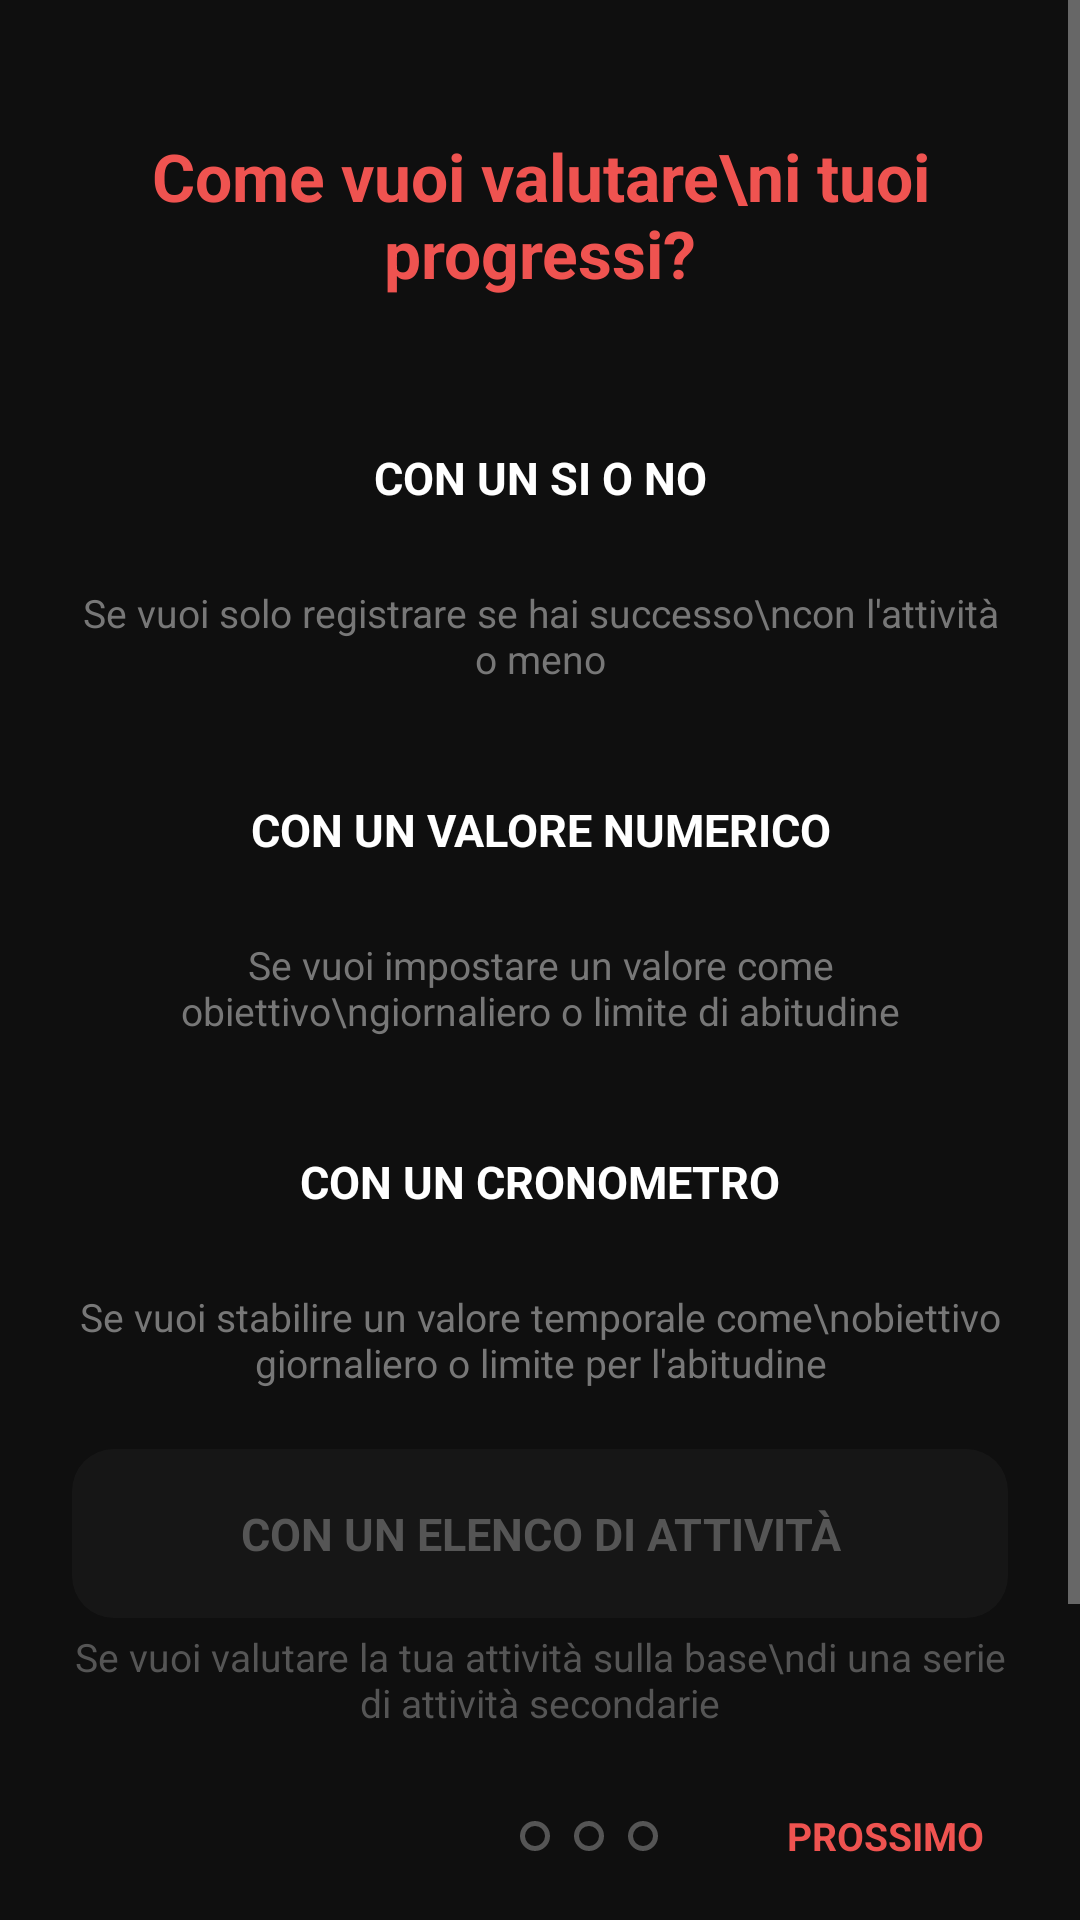

Icon click points for this 1080px×1920px phone screenshot, format (x=x, y=y):
dot empty: (x=535, y=1836), (x=589, y=1836), (x=643, y=1836)
